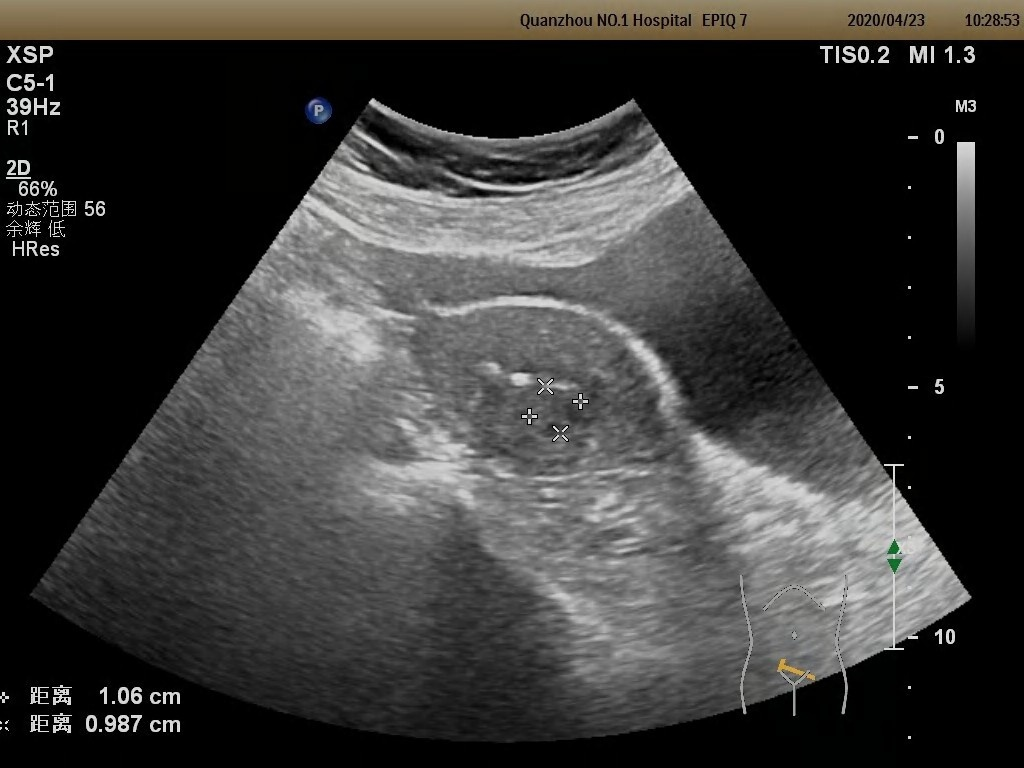肌瘤: (528, 387, 580, 434)
